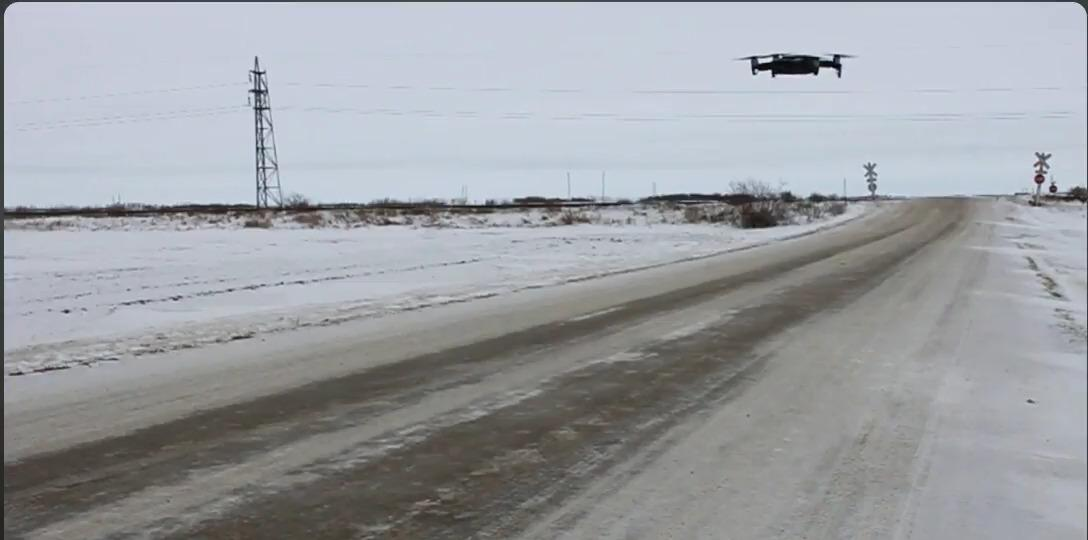dr: (727, 37, 867, 90)
